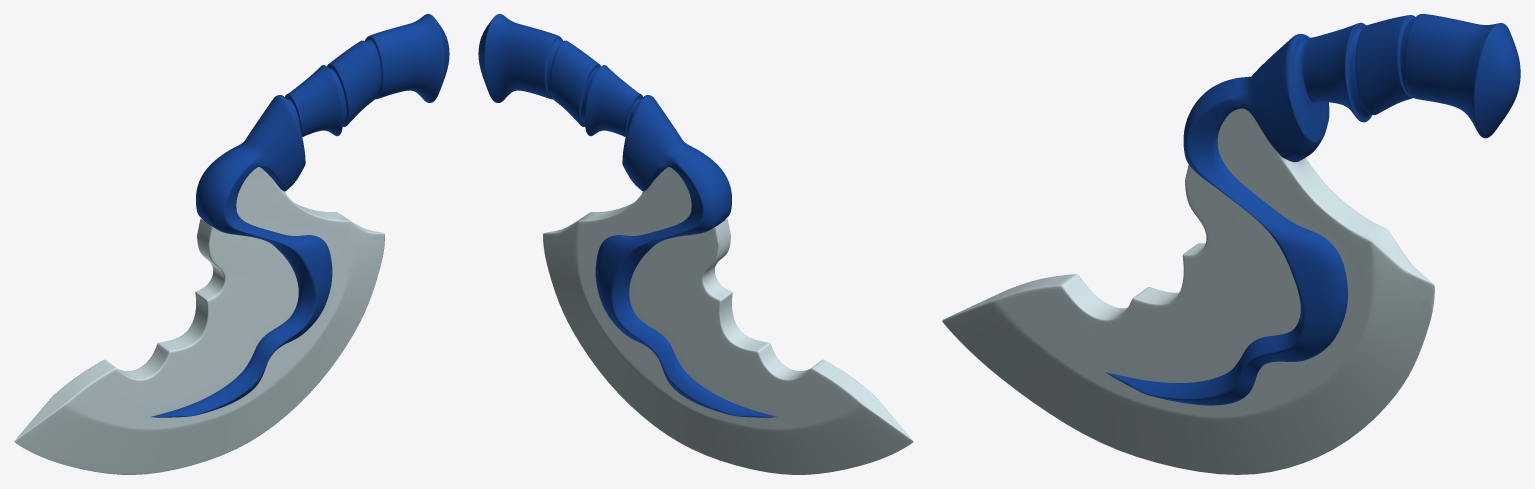
The picture shows the model from 3 angles, left to right: view 1: azimuth 30°, elevation 25°; view 2: azimuth 150°, elevation 25°; view 3: azimuth 330°, elevation 25°; orthographic projection. The views are drawn at different scales.
Parts seen in each view (by area): view 1: rend2, rend; view 2: rend2, rend; view 3: rend2, rend.
Part boxes in pixels (<box>): rend2: <box>14,167,384,474</box>; rend: <box>150,14,449,417</box>; rend2: <box>543,167,913,474</box>; rend: <box>478,14,777,417</box>; rend2: <box>942,108,1434,474</box>; rend: <box>1106,14,1520,405</box>.
Size of the model in its own units: 8.05 by 6.97 by 0.9909.
